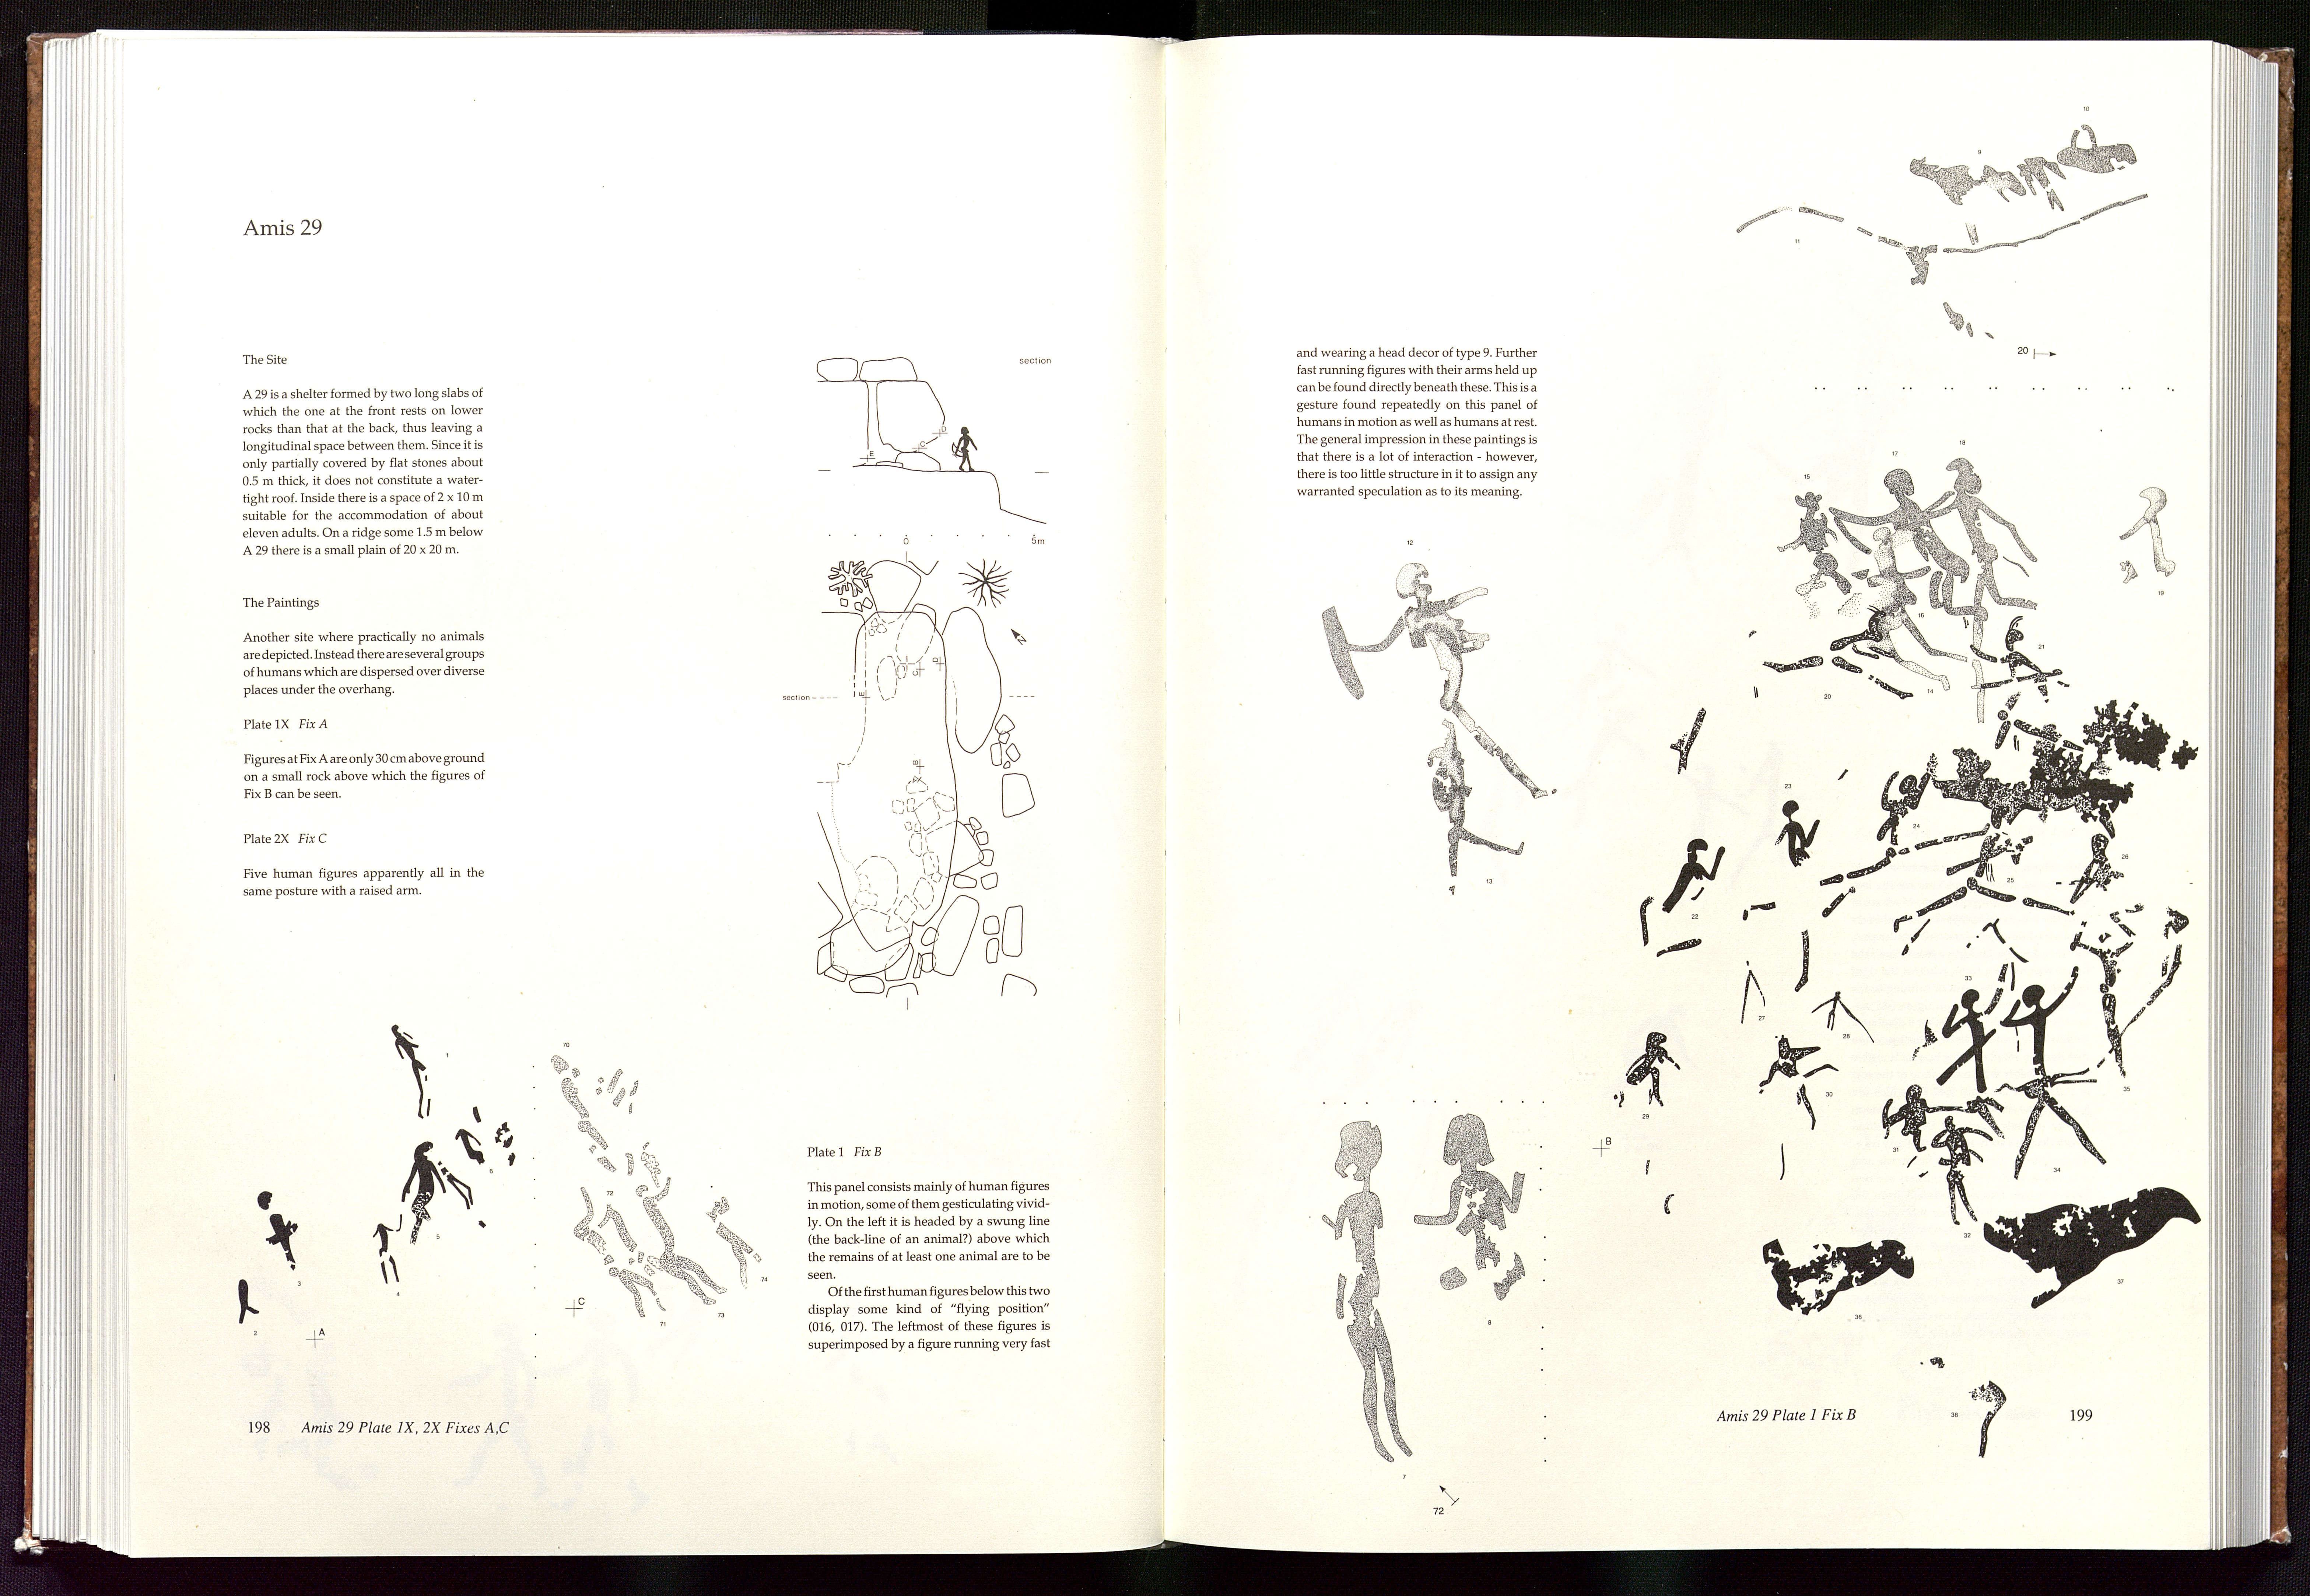human: (1323, 558, 1571, 811), (1922, 441, 2062, 723), (1315, 1111, 1416, 1477), (1834, 441, 1998, 652), (1890, 782, 2084, 937), (1406, 1111, 1536, 1332), (1986, 961, 2111, 1187), (1421, 716, 1524, 902), (250, 1185, 341, 1357), (1637, 834, 1726, 968), (1905, 1116, 1993, 1236), (2114, 475, 2185, 617), (1932, 978, 2006, 1101), (400, 1138, 459, 1253), (380, 1015, 439, 1123), (1875, 1079, 1942, 1175), (1772, 794, 1824, 887)
